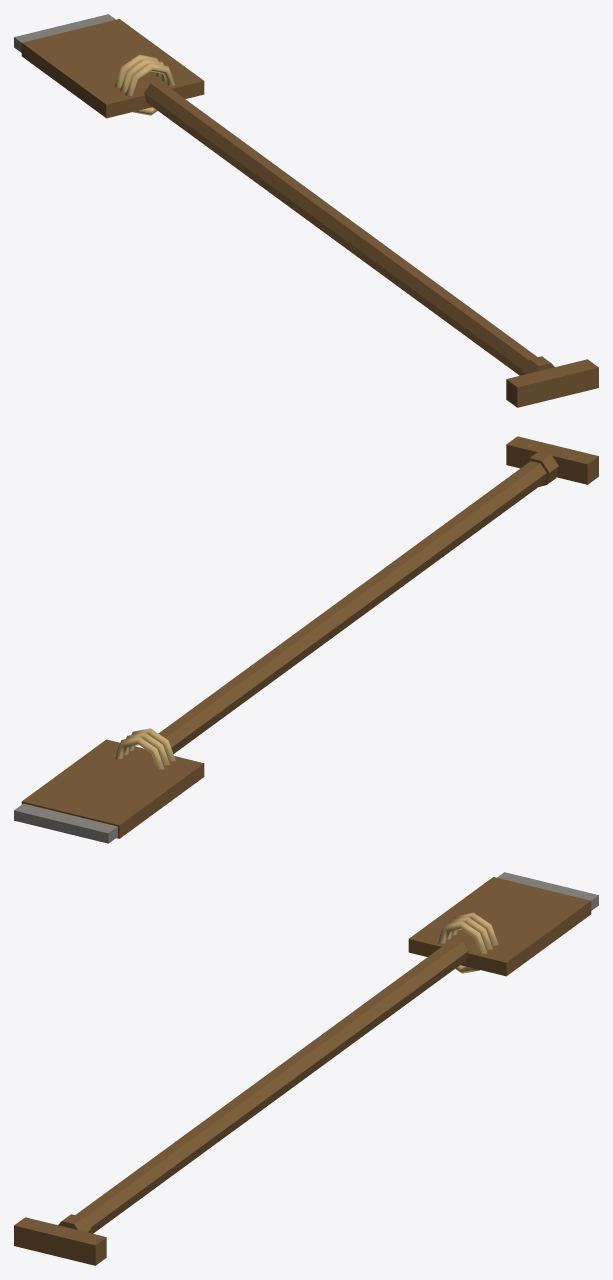
File: Tool_Shovel_Stone.fbx
The picture shows the model from 3 angles, top to bottom: view 1: azimuth 30°, elevation 25°; view 2: azimuth 150°, elevation 25°; view 3: azimuth 330°, elevation 25°; orthographic projection.
Visible parts, largest first — view 1: Tool_Shovel_Stone; view 2: Tool_Shovel_Stone; view 3: Tool_Shovel_Stone.
Part boxes in pixels (left/top/right/bottom): Tool_Shovel_Stone: left=14, top=14, right=598, bottom=407; Tool_Shovel_Stone: left=14, top=436, right=598, bottom=843; Tool_Shovel_Stone: left=14, top=872, right=598, bottom=1265.
Bounding box in the file's own units: 0.06 × 0.031 × 0.528.
